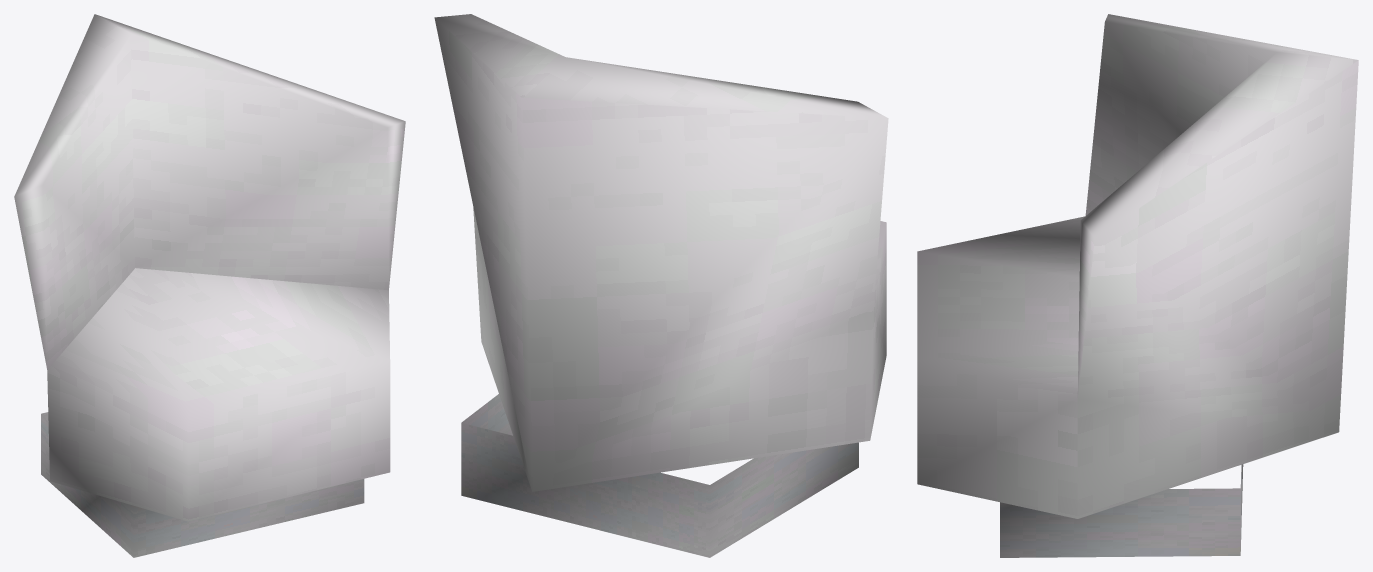
File: frn_all_mdrn_sofa_chair_s01_l3.fbx
3 views of the same model, side by side, from view 1: azimuth 30°, elevation 25°; view 2: azimuth 150°, elevation 25°; view 3: azimuth 270°, elevation 25° (orthographic). The views are drawn at different scales.
Visible parts, largest first — view 1: mesh_node; view 2: mesh_node; view 3: mesh_node.
Boxes of the visible parts, x1,y1,x2,y2 form: mesh_node: [14, 14, 405, 557]; mesh_node: [434, 14, 888, 557]; mesh_node: [917, 14, 1358, 557].
Bounding box in the file's own units: 1.18 × 1.18 × 1.05.
